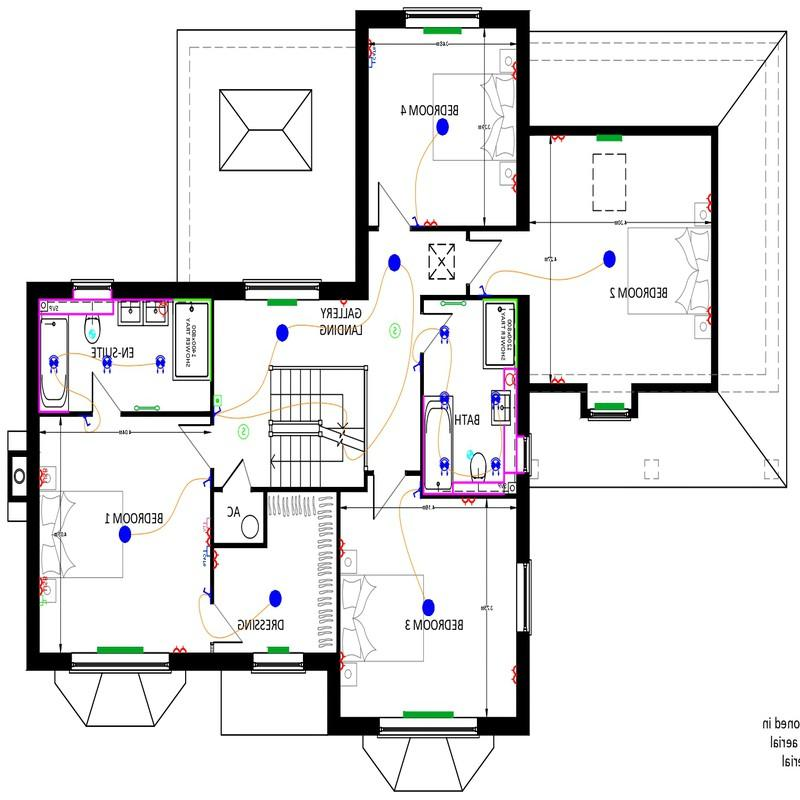Cat 6 Data Socket: (198, 545, 209, 567), (364, 58, 379, 71)
Ceiling Mounted Continuous Extract Fan With Boost Mode Activated By Light Switch: (87, 323, 100, 343), (464, 444, 475, 466)
Co-Ax TV Socket: (196, 513, 211, 527)
Double Socket: (697, 299, 715, 330), (544, 132, 570, 148), (367, 37, 384, 59), (194, 527, 213, 546), (504, 171, 518, 196), (338, 535, 349, 563), (170, 643, 193, 656), (704, 187, 712, 223), (422, 213, 443, 226), (338, 644, 347, 673), (507, 664, 517, 689), (547, 375, 572, 385), (505, 59, 516, 81), (456, 498, 480, 507)
Full Height Tiling: (173, 296, 215, 382), (482, 294, 521, 371)
Light Switch: (408, 354, 422, 377), (473, 283, 495, 296), (198, 471, 212, 490), (79, 415, 97, 428), (199, 585, 214, 600), (410, 483, 423, 500), (409, 215, 424, 226), (213, 405, 225, 418)
Low Energy Downlighter: (435, 452, 451, 483), (437, 388, 455, 413), (437, 320, 451, 352), (487, 386, 502, 414), (47, 353, 64, 377), (488, 455, 505, 479), (150, 354, 166, 376), (99, 355, 117, 373)
Low Energy Pendant Light: (598, 245, 619, 274), (431, 114, 455, 138), (117, 523, 136, 550), (385, 251, 405, 276), (273, 320, 291, 346), (262, 590, 286, 607), (422, 595, 438, 619)
Mains Wired Smoke Detector: (385, 318, 411, 341), (231, 423, 252, 441)
Programmable Room Thermostat: (214, 390, 226, 404)
Radiator: (418, 24, 471, 40), (583, 134, 631, 149), (395, 709, 459, 718), (95, 643, 147, 654), (592, 399, 631, 413), (262, 299, 303, 311), (265, 644, 292, 655)
Shaver Socket: (157, 296, 171, 321), (501, 370, 518, 388)
Single Socket: (334, 298, 353, 307)
Telephone Socket: (37, 595, 50, 612)
USB Double Socket: (37, 574, 55, 596), (37, 467, 51, 490)
